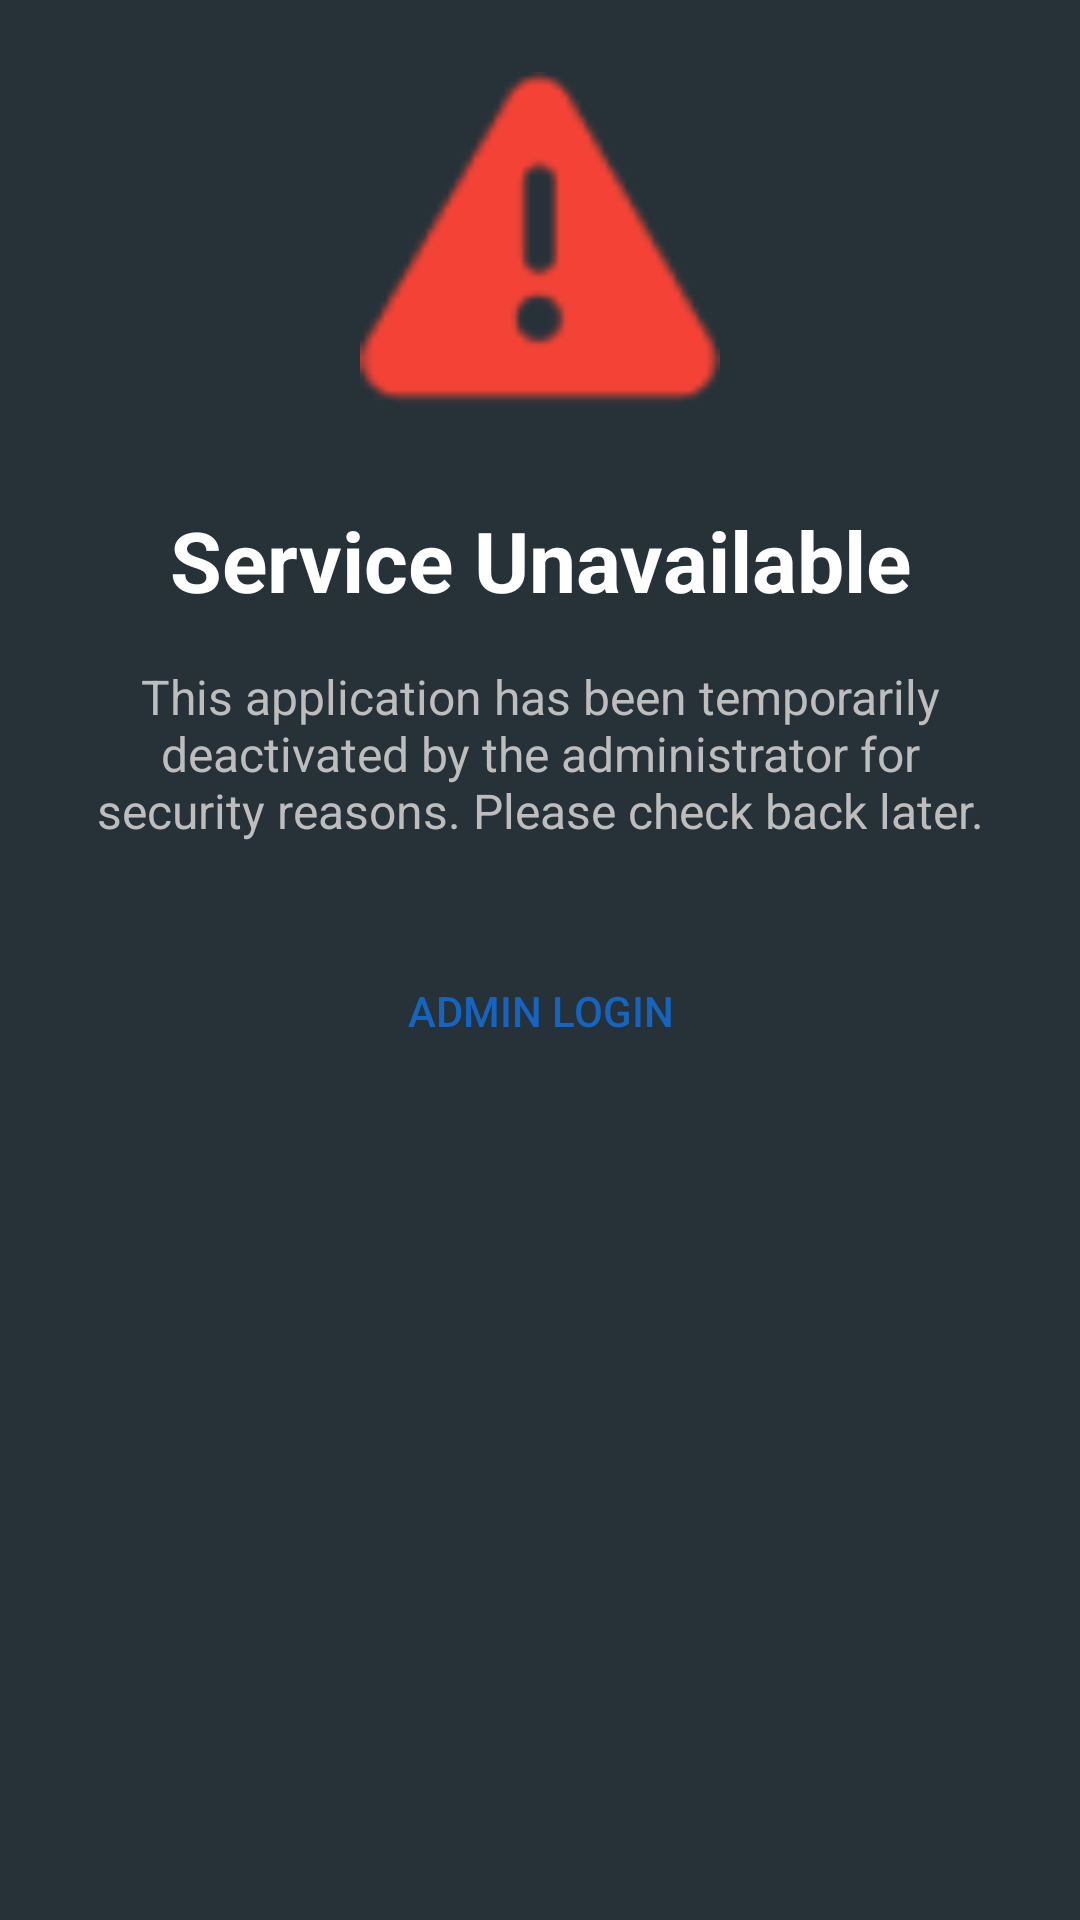

Point at icon controls on the screen. Image size 1080px x 1920px, points as (x=x, y=y).
alert: (x=540, y=236)
